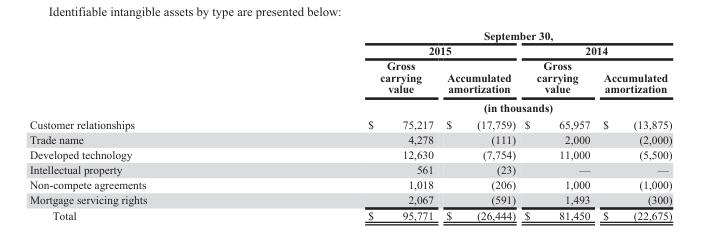table: (28, 28, 671, 220)
table column: (28, 28, 256, 220), (256, 28, 439, 220), (439, 28, 519, 220), (519, 28, 595, 220), (595, 28, 671, 220)
table column header: (28, 28, 671, 115)
table row: (28, 57, 671, 97), (28, 97, 671, 115), (28, 115, 671, 131), (28, 191, 671, 207), (28, 42, 671, 57), (28, 131, 671, 146), (28, 146, 671, 161), (28, 161, 671, 176), (28, 176, 671, 191), (28, 28, 671, 42), (28, 207, 671, 220)
table spanning cell: (256, 97, 671, 115), (256, 28, 671, 42), (256, 42, 519, 57), (519, 42, 671, 57)
